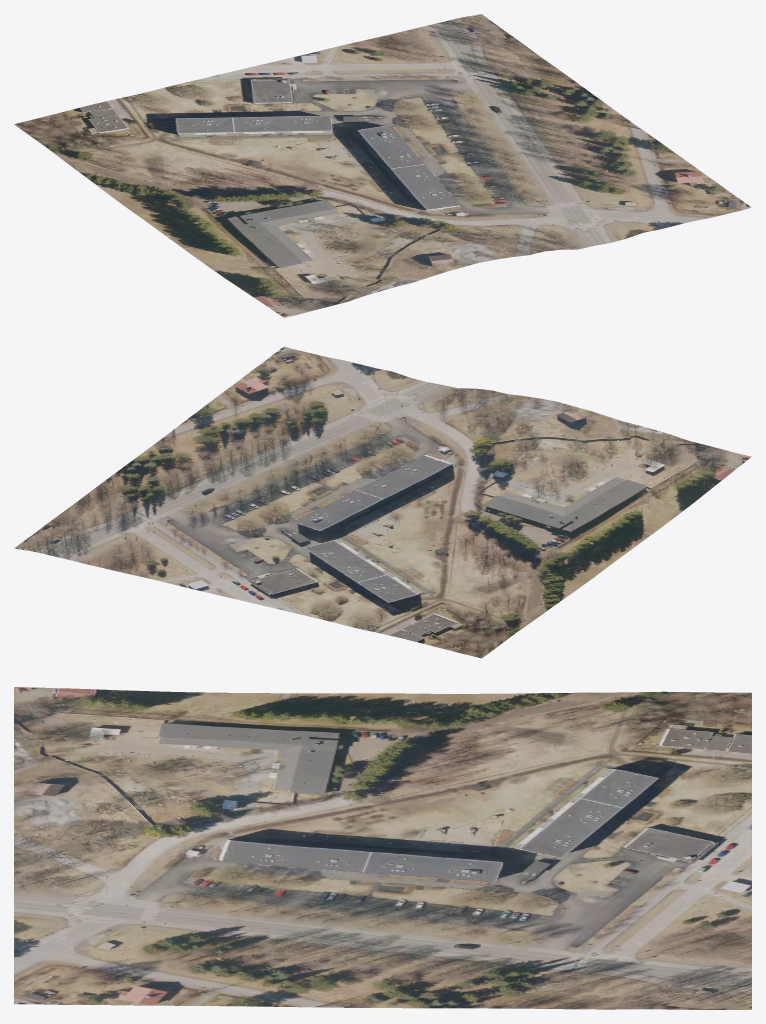
Rendered from CM_Terrain_24491687_6818360.fbx.
3 renders of one model, top to bottom at view 1: azimuth 30°, elevation 25°; view 2: azimuth 150°, elevation 25°; view 3: azimuth 270°, elevation 25°, orthographic. The views are drawn at different scales.
Visible parts, largest first — view 1: CM_Terrain_24491687_6818360_LOD0; view 2: CM_Terrain_24491687_6818360_LOD0; view 3: CM_Terrain_24491687_6818360_LOD0.
Boxes of the visible parts, x1,y1,x2,y2 form: CM_Terrain_24491687_6818360_LOD0: (14, 14, 751, 317); CM_Terrain_24491687_6818360_LOD0: (14, 346, 751, 658); CM_Terrain_24491687_6818360_LOD0: (14, 687, 751, 1009).
Size of what is drawn, in the model's own units: 205 by 7.07 by 205.
